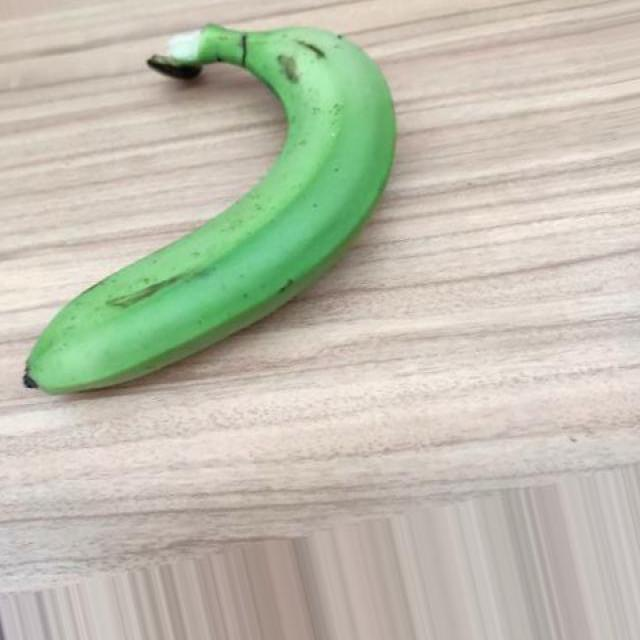Unripe: (22, 20, 397, 395)
